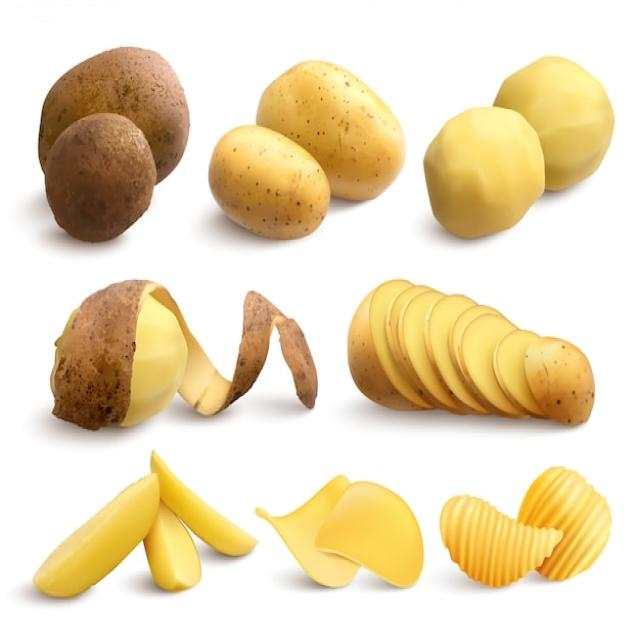Potato: (339, 274, 602, 428), (39, 39, 204, 245), (45, 274, 224, 442), (245, 49, 411, 210), (202, 100, 332, 250), (420, 100, 555, 225), (496, 65, 608, 198)
